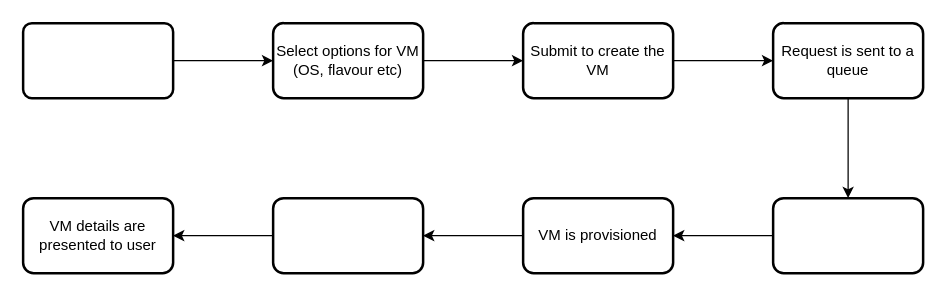
The diagram is 945 pixels wide and 295 high, and some of its shapes have lost their labels. Here are the shapes that lost their labels. From the top down, the centre of each, then its label:
At [97,60]: "User login to website".
At [347,235]: "User is updated with progress".
At [847,235]: "Request is picked".
